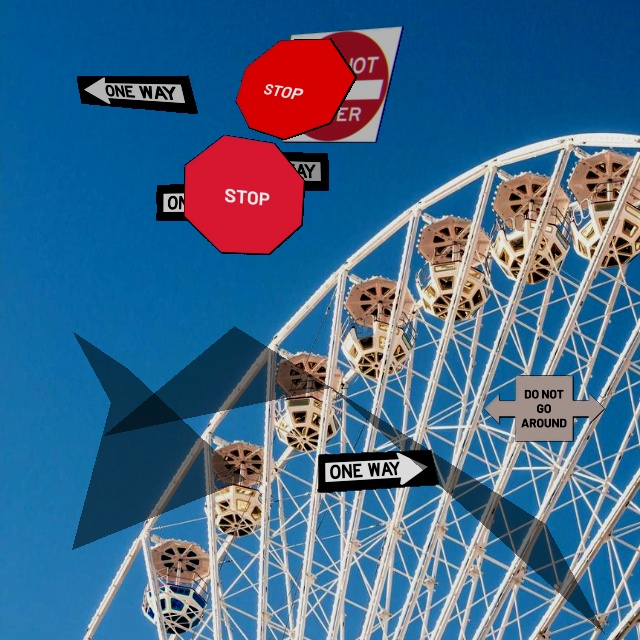DO_NOT_ENTER: (282, 25, 404, 143)
DO_NOT_GO_AROUND: (483, 375, 605, 442)
ONE_WAY_ left: (207, 149, 329, 191), (76, 75, 198, 114)
ONE_WAY_ right: (317, 449, 439, 493), (156, 182, 278, 221)
STOP: (183, 134, 305, 255), (235, 38, 357, 140)
